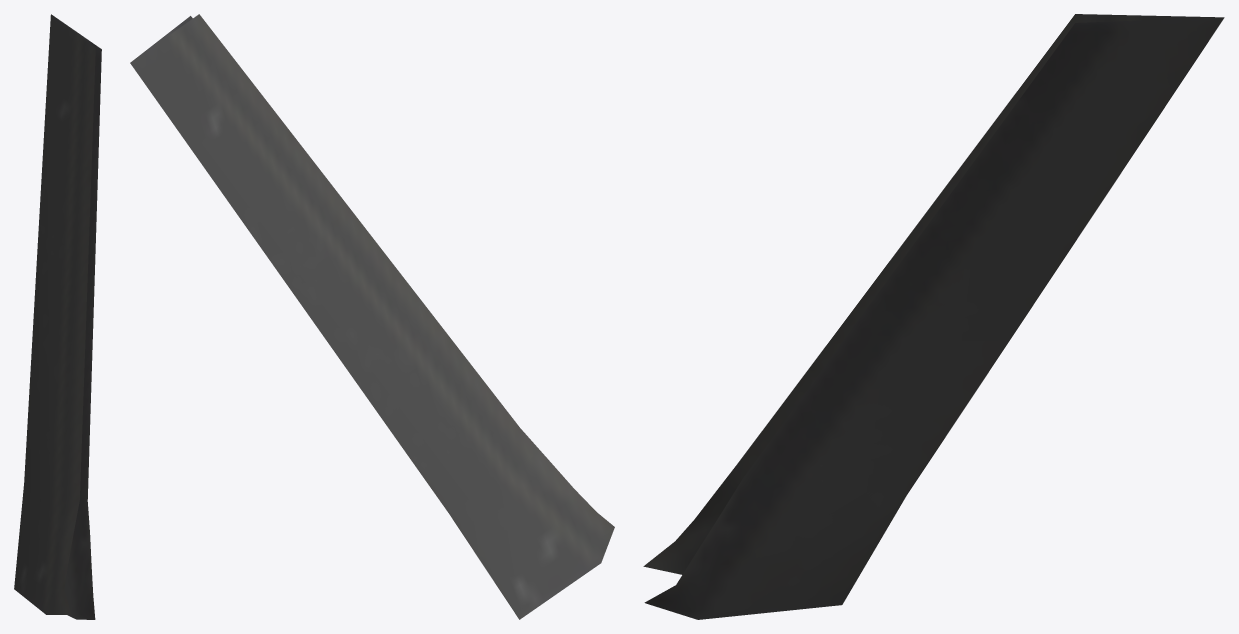
Rendered from rightvertical_new.obj.
3 views of the same model, side by side, from view 1: azimuth 30°, elevation 25°; view 2: azimuth 150°, elevation 25°; view 3: azimuth 270°, elevation 25° (orthographic). The views are drawn at different scales.
Visible parts, largest first — view 1: f35c-airframe.005_f35c-airframe.007; view 2: f35c-airframe.005_f35c-airframe.007; view 3: f35c-airframe.005_f35c-airframe.007.
Part boxes in pixels (<box>): f35c-airframe.005_f35c-airframe.007: <box>14,14,101,619</box>; f35c-airframe.005_f35c-airframe.007: <box>130,14,614,619</box>; f35c-airframe.005_f35c-airframe.007: <box>643,14,1224,619</box>.
Bounding box in the file's own units: 0.993 × 2.45 × 1.81.
Materials: 1 (1 with a texture image).
